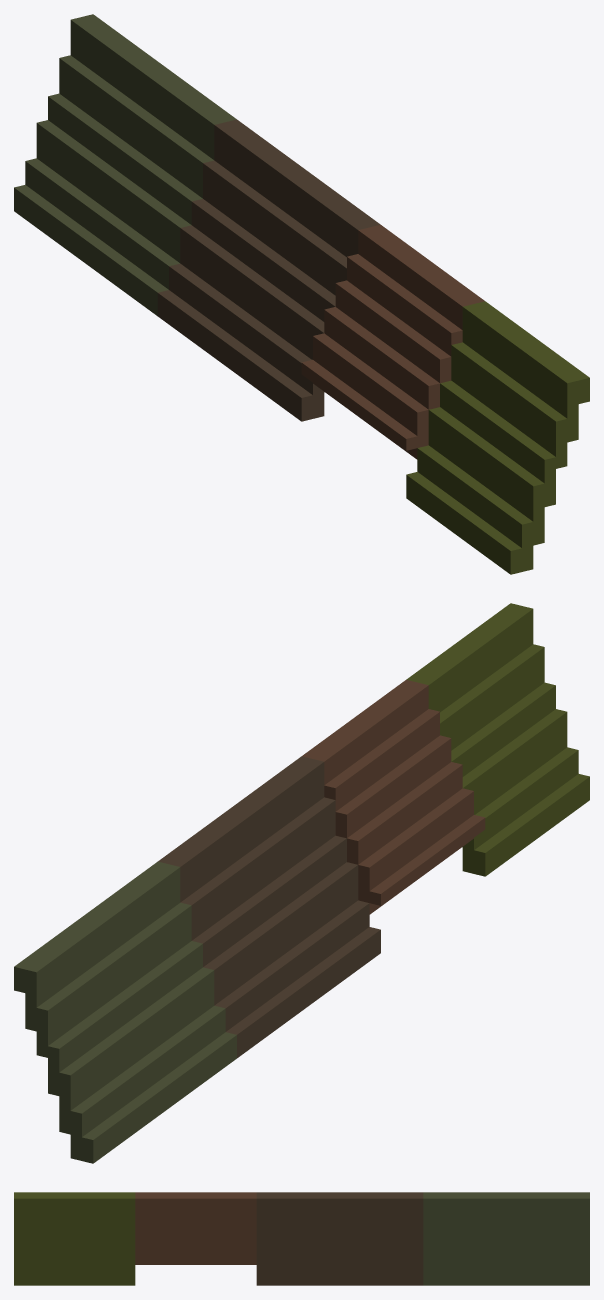
File: abandoned_army_truck_tailgate.glb
3 renders of one model, top to bottom at view 1: azimuth 30°, elevation 25°; view 2: azimuth 150°, elevation 25°; view 3: azimuth 270°, elevation 25°, orthographic. The views are drawn at different scales.
Visible parts, largest first — view 1: body:compound; view 2: body:compound; view 3: body:compound.
Part boxes in pixels (box(x1,y1,x2,y2)): body:compound: box(14, 14, 589, 574); body:compound: box(14, 603, 589, 1163); body:compound: box(14, 1192, 589, 1285).
Size of the model in its own units: 0.2188 by 0.4688 by 2.38.
